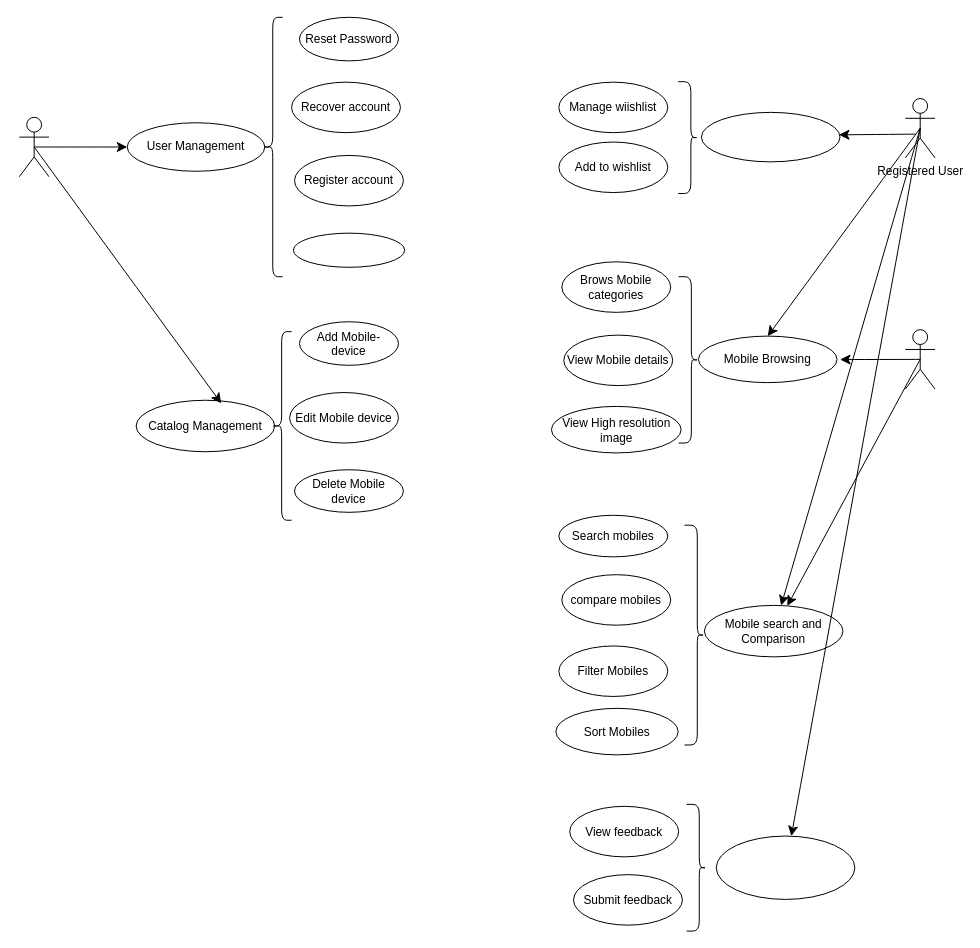
The diagram is 980 pixels wide and 948 high, and some of its shapes have lost their labels. Each missing label, with the centre of its shape:
"Admin" belongs at point 33,146.
"login" belongs at point 348,249.
"User Feedback and review" belongs at point 785,867.
"Visitor" belongs at point 919,359.
"Wishlist Management" belongs at point 770,136.
